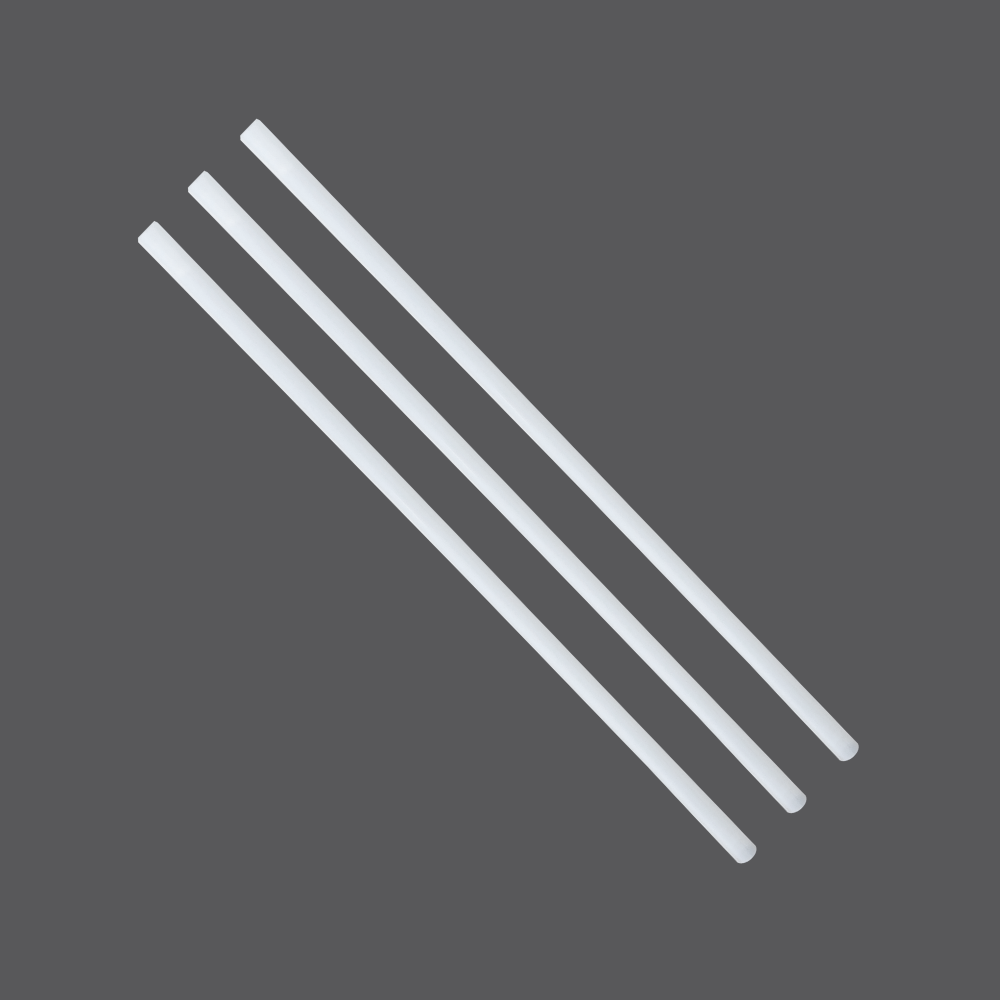Drinking Straw: (131, 212, 758, 874)
